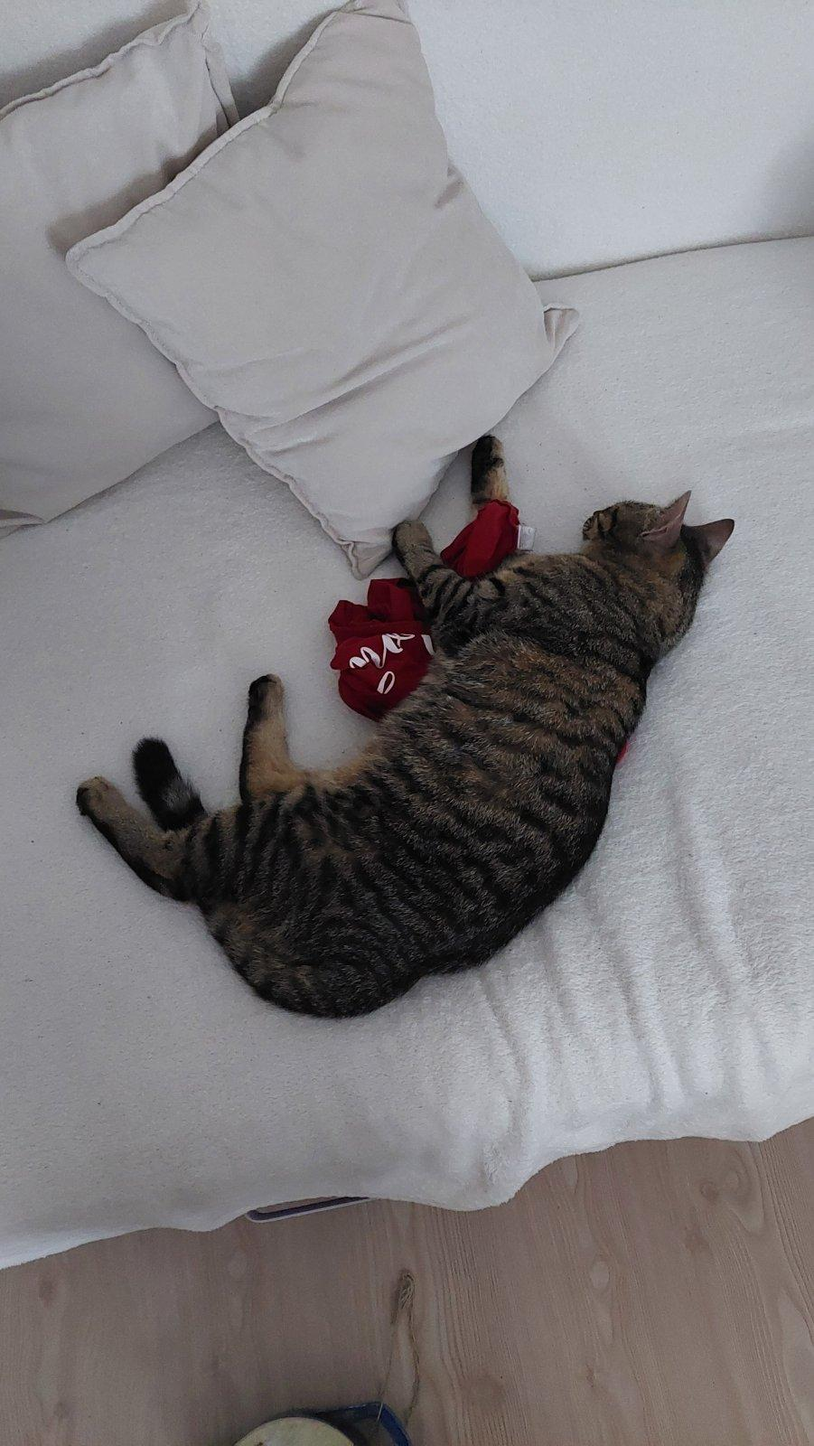macka: (76, 436, 738, 1018)
